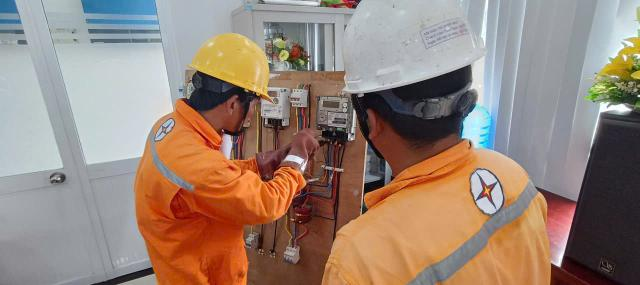gloves: (281, 127, 325, 173), (254, 136, 317, 168)
helmet: (309, 0, 512, 98), (190, 30, 282, 101)
